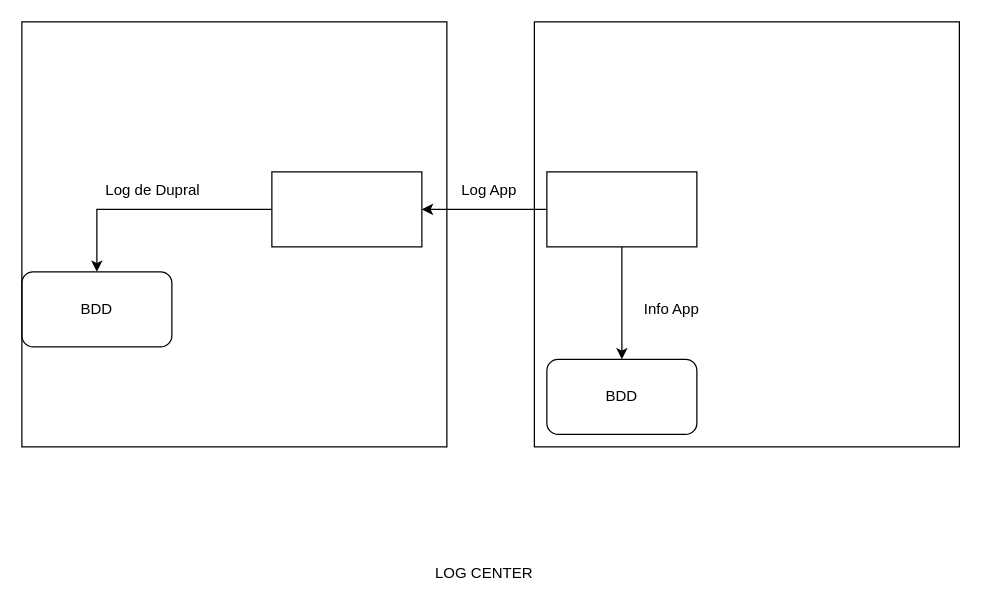
Image size: 981x603. Some labels were removed from this diagram. Here are the shapes that lost their labels. From the top down, the centre of each, then its label:
point 346,209: rsyslog
point 621,209: Dupral App
